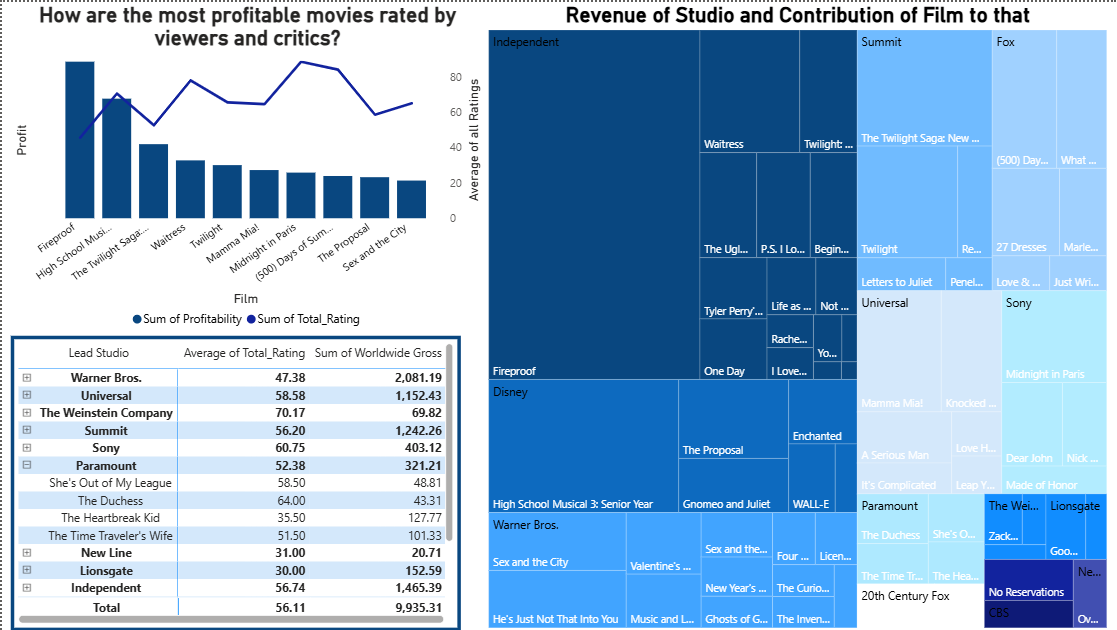

Layout of this report page (visuals, bound fields, positions):
{"tool":"powerbi","page":{"name":"Page 1","canvas":[1280,720],"ordinal":0},"visuals":[{"type":"lineClusteredColumnComboChart","title":"How are the most profitable movies rated by viewers and critics?","fields":{"Category":["HollywoodsMostProfitableStories.Film"],"Y2":["Sum(Fact Table.Total_Rating)"],"Y":["Sum(Fact Table.Profitability)"]},"box":[9.6,0,542,381.5],"z":0},{"type":"pivotTable","fields":{"Rows":["Fact Table.Lead Studio","Fact Table.Film"],"Values":["Avg(Fact Table.Total_Rating)","Sum(Fact Table.Worldwide Gross)"]},"box":[9.6,381.5,514.6,337.6],"z":1000},{"type":"treemap","title":"Revenue of Studio and Contribution of Film to that","fields":{"Group":["Studio.Lead Studio"],"Details":["Fact Table.Film"],"Values":["Sum(Fact Table.Profitability)"]},"box":[551.6,0,716.3,720.4],"z":2000}]}

Visuals, with their boxes in screenshot pixels (x1, y1, x2, y2), scaled from the page's 1280x720 canvas onto the 1117x630 screenshot:
"How are the most profitable movies rated by viewers and critics?" lineClusteredColumnComboChart: (x1=8, y1=0, x2=481, y2=334)
pivotTable - Fact Table.Lead Studio x Fact Table.Film: (x1=8, y1=334, x2=457, y2=629)
"Revenue of Studio and Contribution of Film to that" treemap: (x1=481, y1=0, x2=1106, y2=629)
